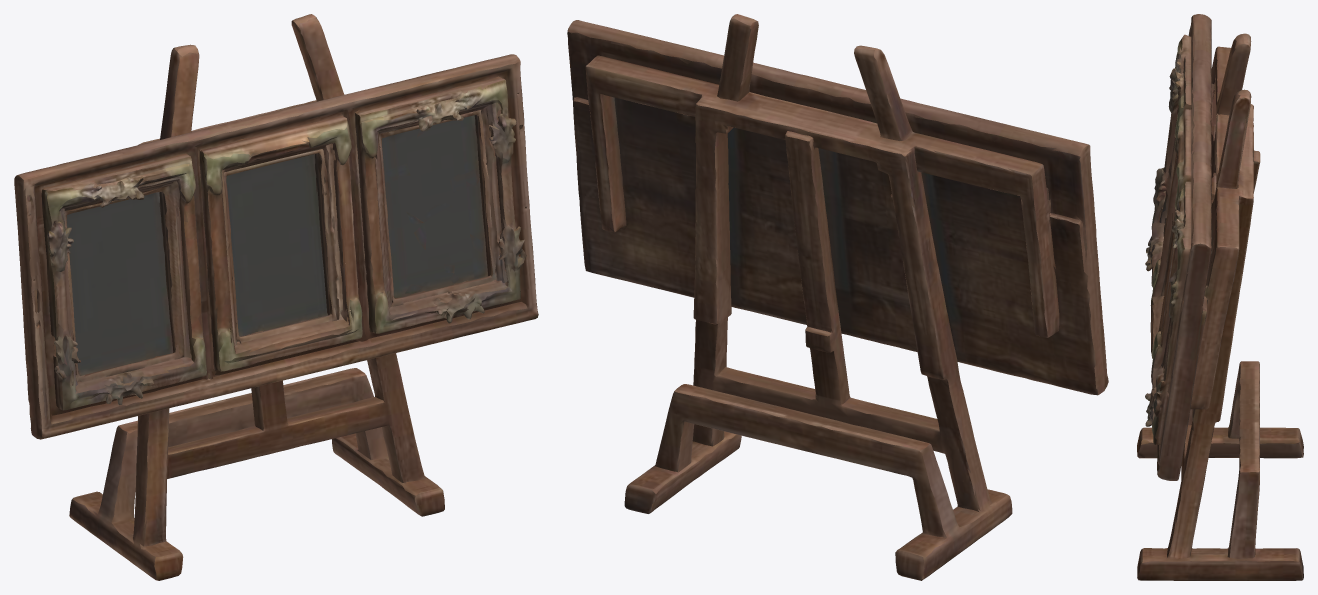
File: photo-board.glb
3 views of the same model, side by side, from view 1: azimuth 30°, elevation 25°; view 2: azimuth 150°, elevation 25°; view 3: azimuth 270°, elevation 25° (orthographic). The views are drawn at different scales.
Parts seen in each view (by area): view 1: geometry_0; view 2: geometry_0; view 3: geometry_0.
Part boxes in pixels (bbox=[...]): geometry_0: bbox=[14, 14, 538, 580]; geometry_0: bbox=[567, 14, 1108, 580]; geometry_0: bbox=[1137, 14, 1303, 580].
Bounding box in the file's own units: 1.21 × 1.1 × 0.3699.
Materials: 1 (1 with a texture image).
